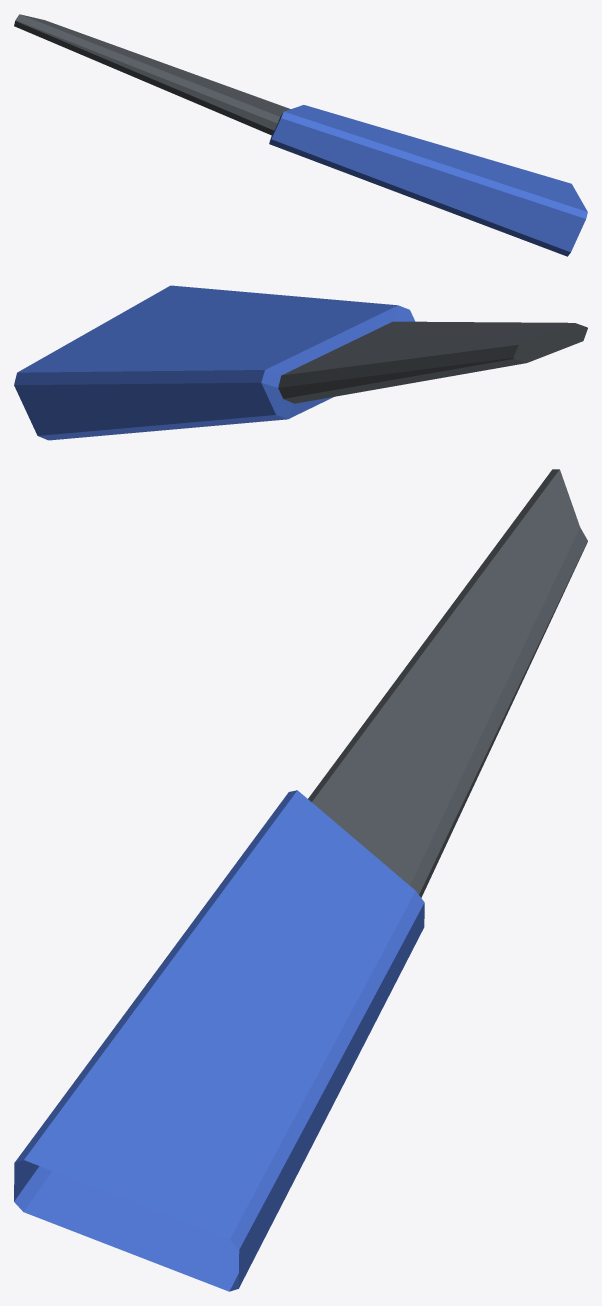
File: Dropship_05_Wing_Right_Blue.fbx
The picture shows the model from 3 angles, top to bottom: view 1: azimuth 30°, elevation 25°; view 2: azimuth 150°, elevation 25°; view 3: azimuth 270°, elevation 25°; orthographic projection. The views are drawn at different scales.
Visible parts, largest first — view 1: Dropship_05_Wing_Right_Blue; view 2: Dropship_05_Wing_Right_Blue; view 3: Dropship_05_Wing_Right_Blue.
Boxes of the visible parts, box(x1,y1,x2,y2) form: Dropship_05_Wing_Right_Blue: box(14, 14, 587, 256); Dropship_05_Wing_Right_Blue: box(14, 285, 587, 440); Dropship_05_Wing_Right_Blue: box(14, 469, 587, 1291).
Bounding box in the file's own units: 452 × 234 × 274.
1 material, 1 textured.
